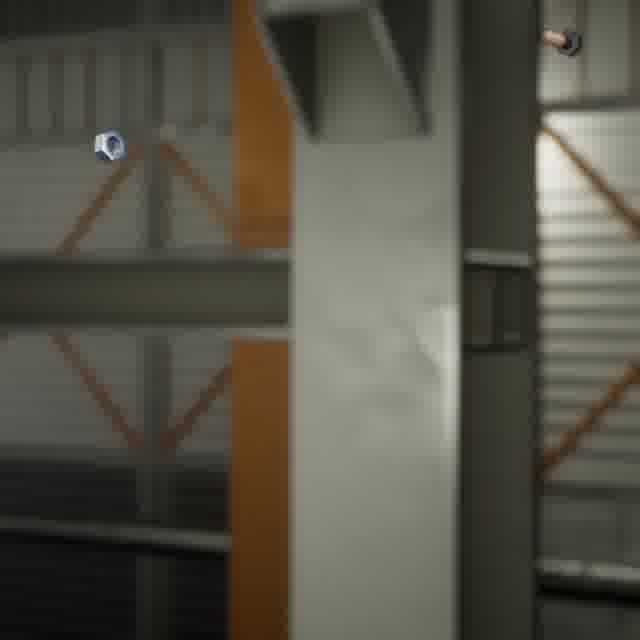bolt: (535, 25, 586, 61)
nut: (90, 125, 131, 168)
